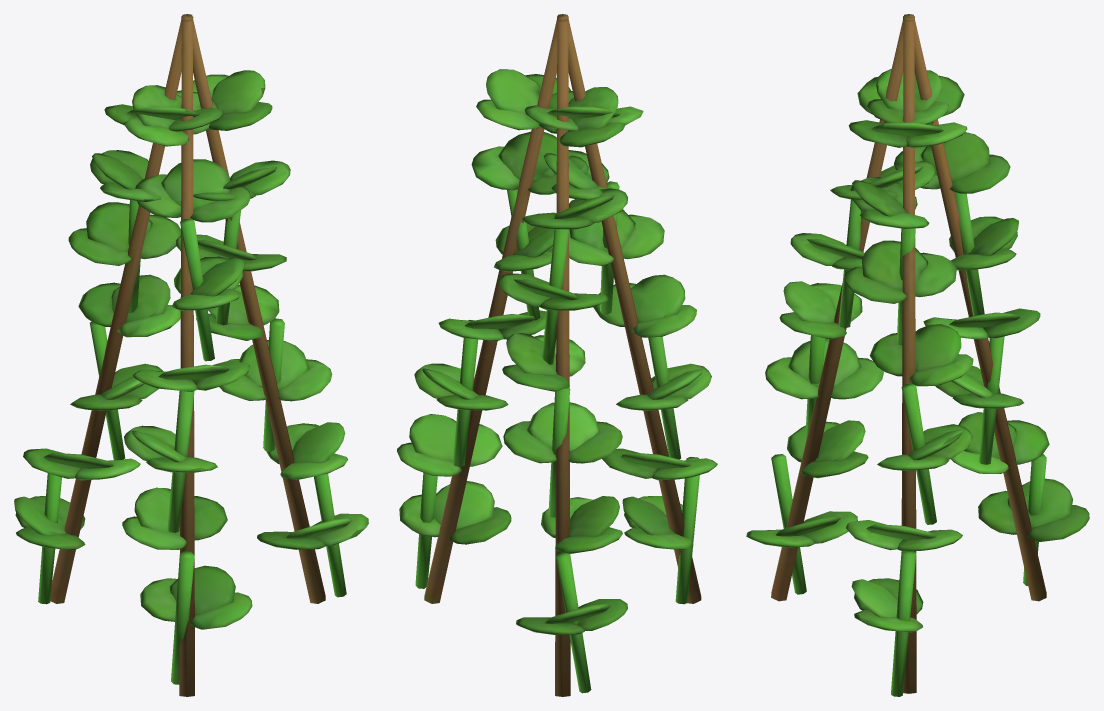
File: crop_green_bean.glb
3 views of the same model, side by side, from view 1: azimuth 30°, elevation 25°; view 2: azimuth 150°, elevation 25°; view 3: azimuth 270°, elevation 25° (orthographic).
Parts seen in each view (by area): view 1: crop_green_bean, fruit; view 2: crop_green_bean, fruit; view 3: crop_green_bean, fruit.
Part boxes in pixels (<box>): crop_green_bean: <box>14,14,368,696</box>; fruit: <box>38,200,346,684</box>; crop_green_bean: <box>397,14,717,696</box>; fruit: <box>415,181,699,693</box>; crop_green_bean: <box>746,14,1089,693</box>; fruit: <box>771,192,1046,696</box>.
Bounding box in the file's own units: 0.2156 × 0.4511 × 0.2285.
Materials: 1 (1 with a texture image).
